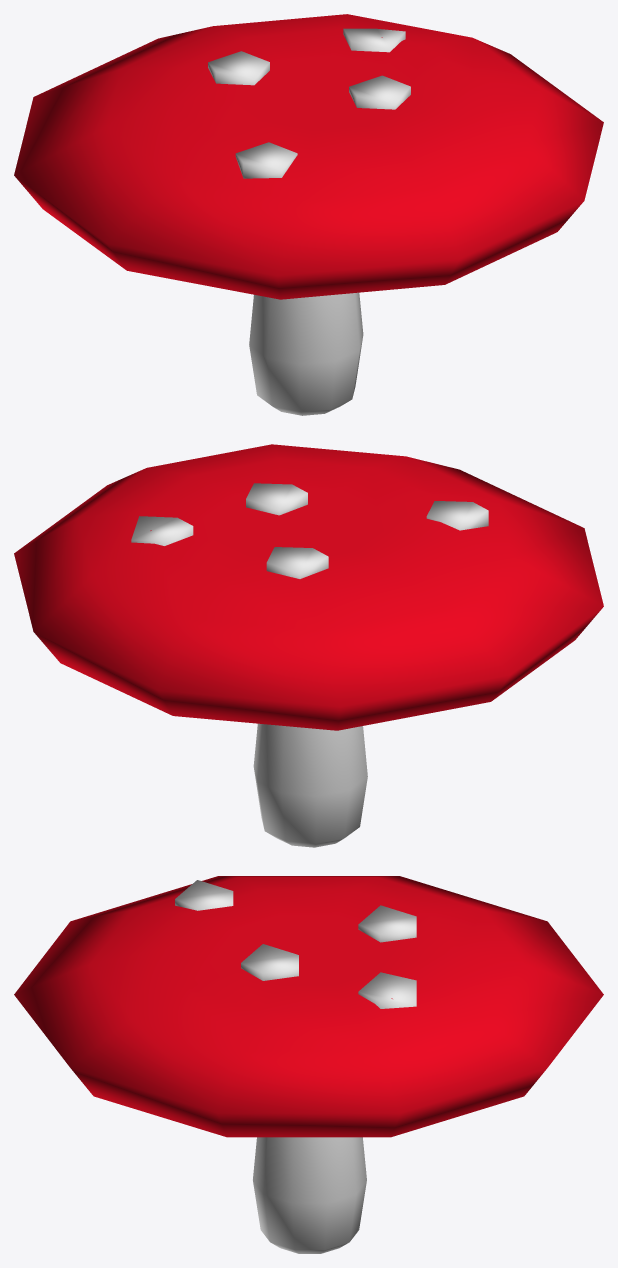
The model's file is Champi.fbx.
The picture shows the model from 3 angles, top to bottom: view 1: azimuth 30°, elevation 25°; view 2: azimuth 150°, elevation 25°; view 3: azimuth 270°, elevation 25°; orthographic projection. The views are drawn at different scales.
Visible parts, largest first — view 1: Circle.001; view 2: Circle.001; view 3: Circle.001.
Part boxes in pixels (<box>): Circle.001: <box>14,14,603,415</box>; Circle.001: <box>14,444,603,847</box>; Circle.001: <box>14,876,603,1253</box>.
Bounding box in the file's own units: 331 × 201 × 348.
